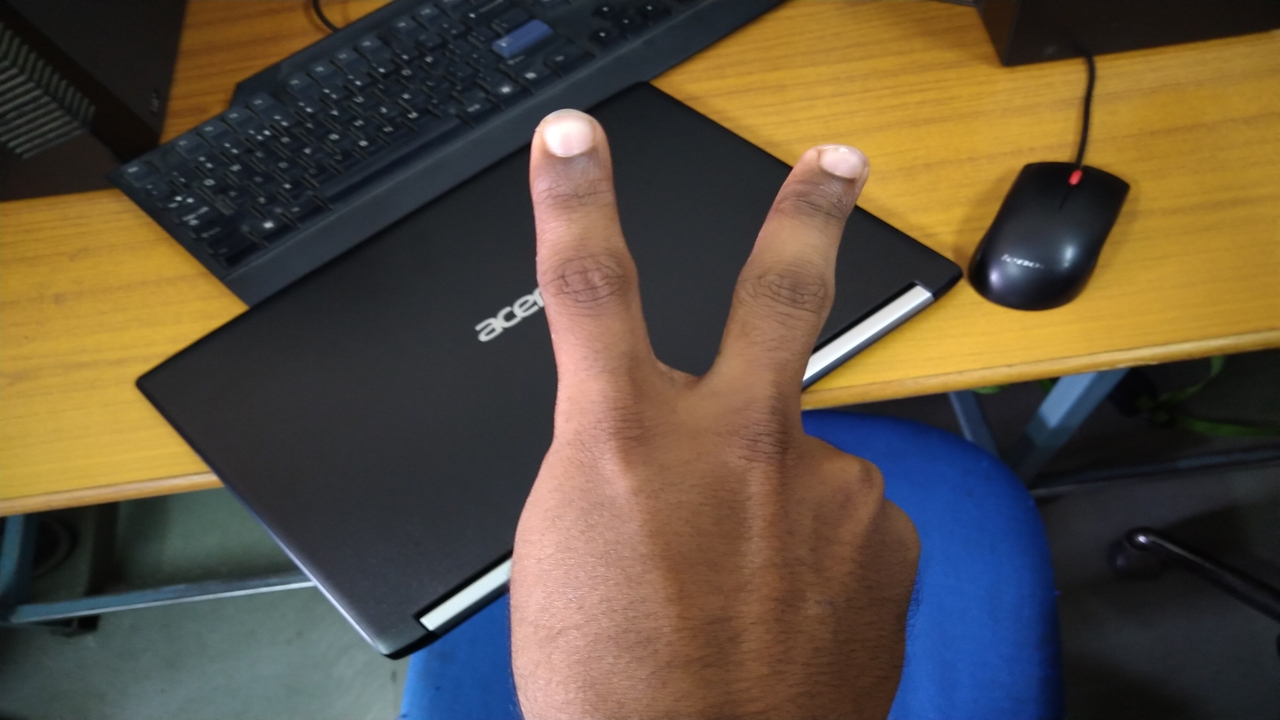fingertip: (520, 102, 610, 178), (806, 142, 878, 196)
